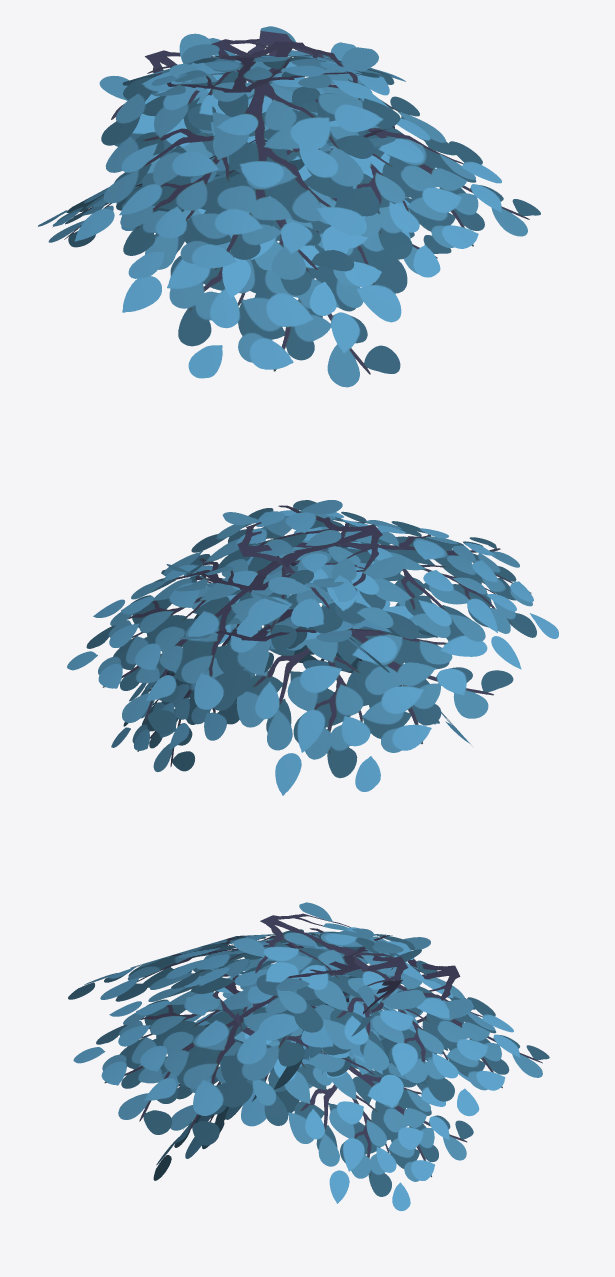
The model's file is LushBush_03.fbx.
3 renders of one model, top to bottom at view 1: azimuth 30°, elevation 25°; view 2: azimuth 150°, elevation 25°; view 3: azimuth 270°, elevation 25°, orthographic. The views are drawn at different scales.
Visible parts, largest first — view 1: lushleaf_C; view 2: lushleaf_C; view 3: lushleaf_C.
Part boxes in pixels (left/top/right/bottom): lushleaf_C: left=38, top=26, right=540, bottom=387; lushleaf_C: left=67, top=500, right=558, bottom=795; lushleaf_C: left=68, top=902, right=549, bottom=1211.
Bounding box in the file's own units: 144 × 80.34 × 159.
